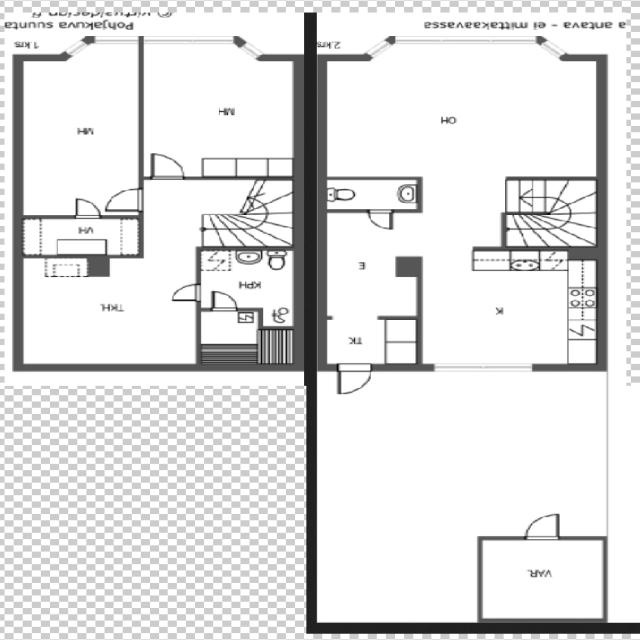door: (521, 510, 564, 543), (332, 363, 374, 396), (144, 150, 187, 182), (103, 185, 147, 214), (363, 206, 397, 233), (166, 282, 203, 304), (70, 196, 102, 220), (207, 290, 238, 312)
window: (388, 33, 546, 51), (424, 359, 541, 375), (136, 32, 244, 49), (534, 36, 571, 61), (231, 33, 264, 61), (363, 35, 397, 57), (60, 36, 90, 56)
zone: (319, 46, 602, 176), (140, 42, 297, 182), (418, 250, 604, 368), (16, 52, 144, 215), (12, 267, 204, 365), (476, 536, 607, 624), (322, 210, 415, 320), (198, 246, 297, 312), (320, 318, 421, 368), (20, 217, 144, 257), (323, 176, 422, 213), (198, 307, 260, 363)
